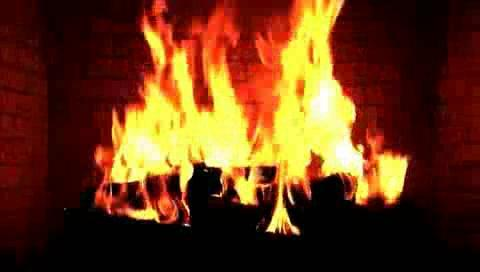fire: (109, 7, 408, 215)
